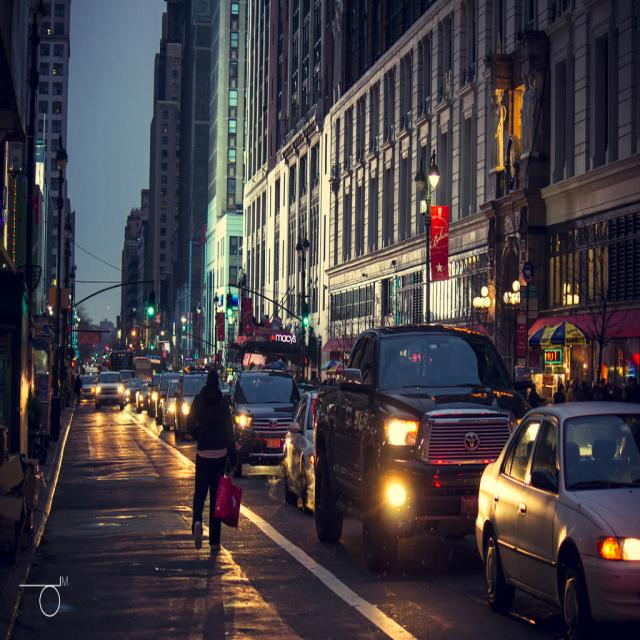other: (480, 400, 640, 639), (77, 365, 315, 515)
